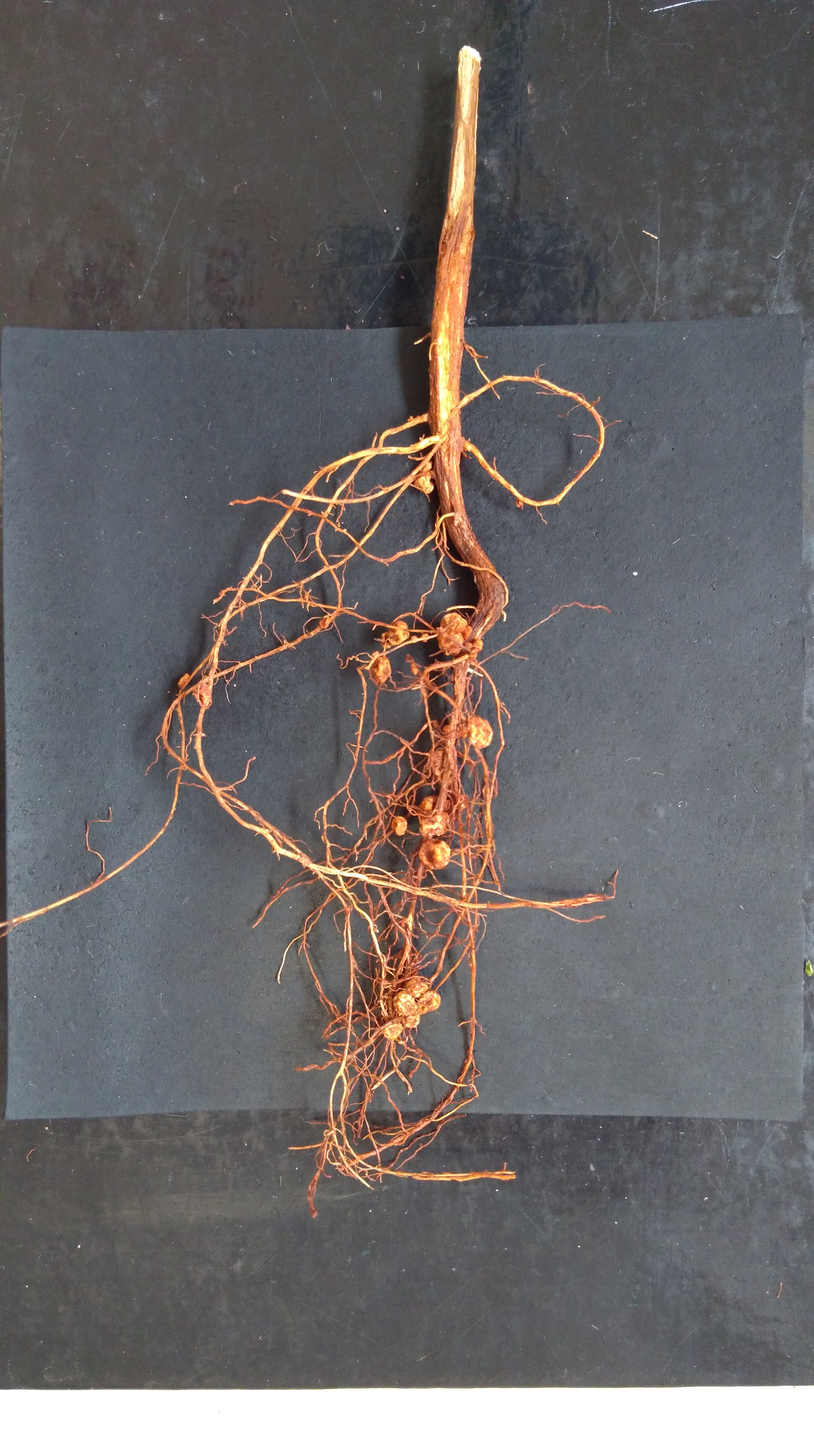nodule: (436, 610, 468, 658), (417, 839, 453, 871), (466, 715, 496, 751), (417, 810, 452, 840), (417, 793, 454, 815), (391, 990, 419, 1017), (415, 989, 442, 1016), (369, 655, 394, 684), (385, 619, 410, 647), (191, 681, 213, 709), (405, 976, 430, 999), (413, 474, 436, 495), (429, 748, 445, 776), (390, 814, 409, 837), (381, 1021, 404, 1040), (403, 1013, 421, 1030), (471, 636, 484, 654), (177, 672, 190, 689), (419, 459, 434, 473), (442, 724, 455, 734), (419, 632, 430, 643), (410, 634, 419, 645), (432, 721, 440, 729)
